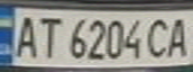0: (103, 16, 127, 61)
2: (84, 16, 109, 61)
4: (124, 16, 148, 60)
6: (63, 15, 87, 61)
A: (9, 11, 42, 60), (163, 13, 193, 60)
C: (145, 15, 175, 60)
T: (33, 12, 63, 60)
